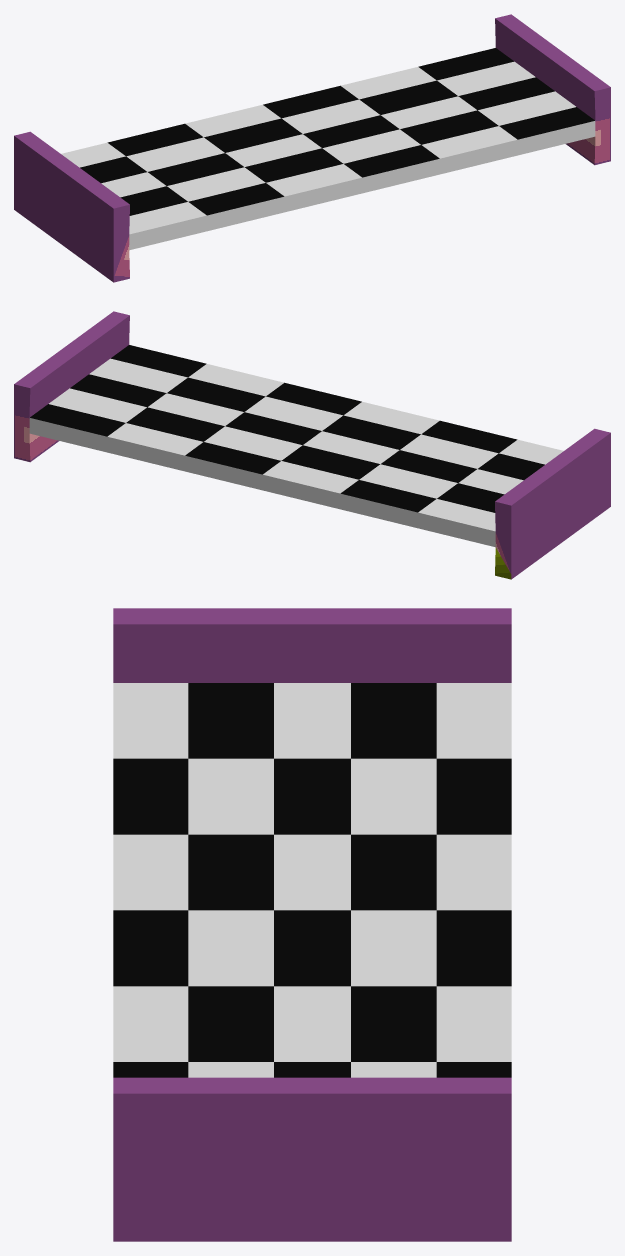
File: Finish Line.fbx
The picture shows the model from 3 angles, top to bottom: view 1: azimuth 30°, elevation 25°; view 2: azimuth 150°, elevation 25°; view 3: azimuth 270°, elevation 25°; orthographic projection. The views are drawn at different scales.
Visible parts, largest first — view 1: polySurface12; view 2: polySurface12; view 3: polySurface12.
Part boxes in pixels (x1,y1,x2,y2): polySurface12: (14,14,610,282); polySurface12: (14,311,610,579); polySurface12: (113,608,511,1241).
Bounding box in the file's own units: 34.35 × 4.89 × 11.92.
